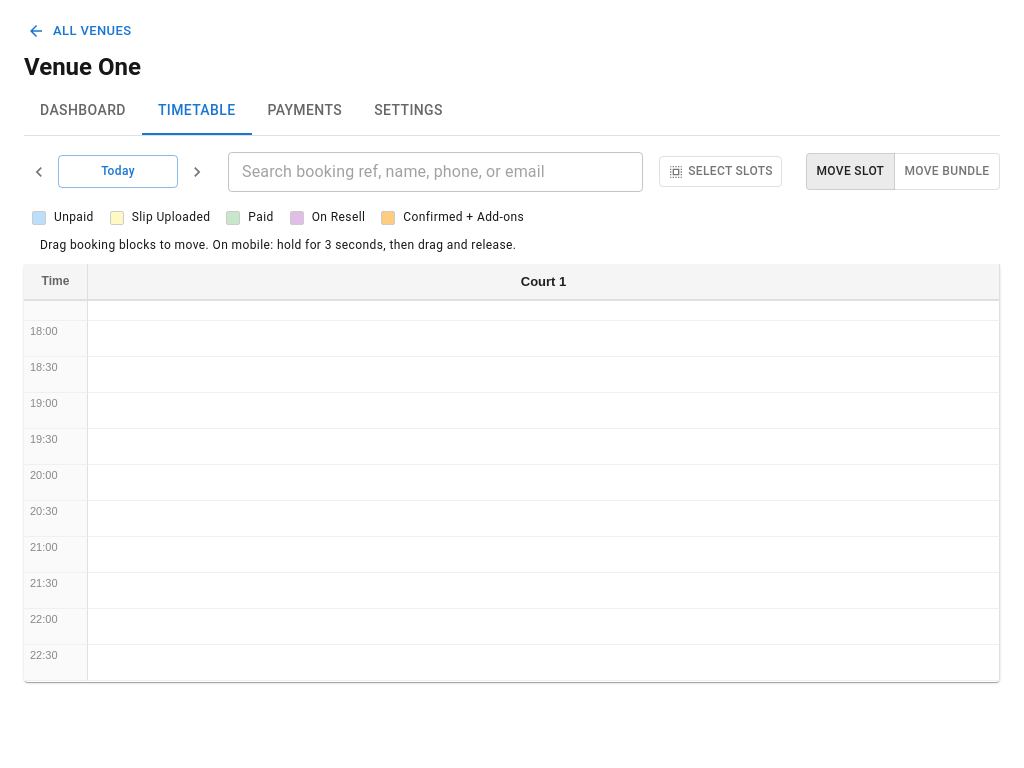
VenueTimetable add-ons display › fetches search results and clears them with the clear button
(page scrolled)
Type "joh" into the field with placeholder "Search booking ref, name, phone, or email".
click(436, 172); type("joh")  # box [228,152,643,192]
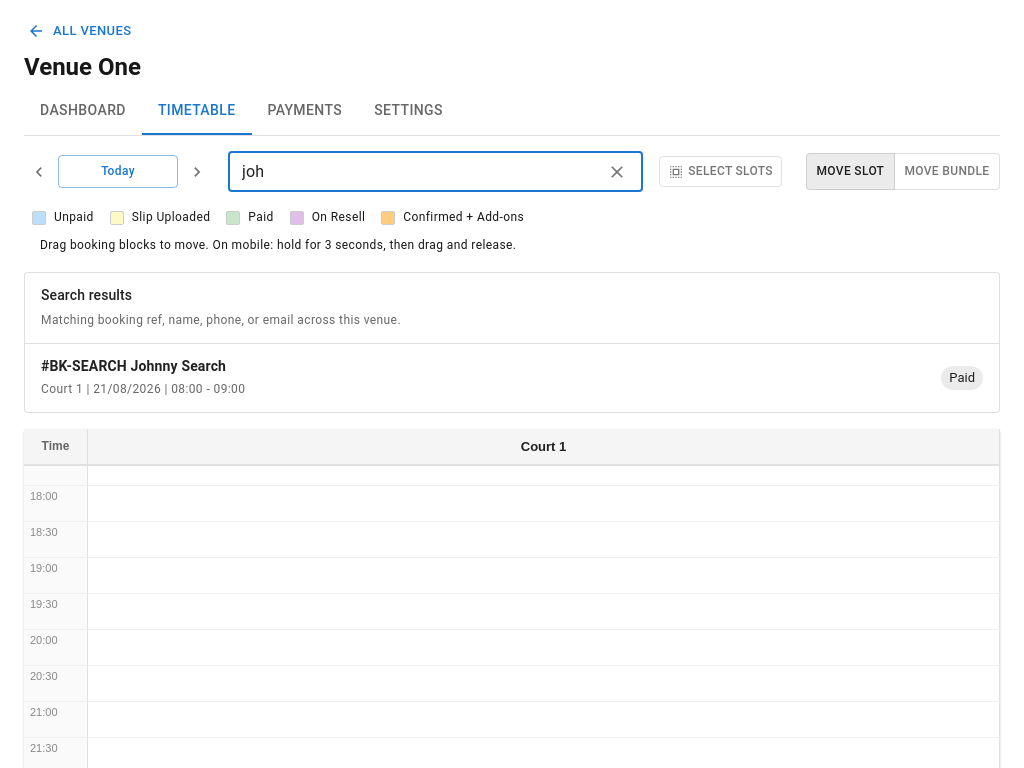
Now the text "#BK-SEARCH Johnny Search" is shown, box [41,356,245,376]
Click the button named "Clear booking search".
click(617, 172)  # box [602,157,632,187]
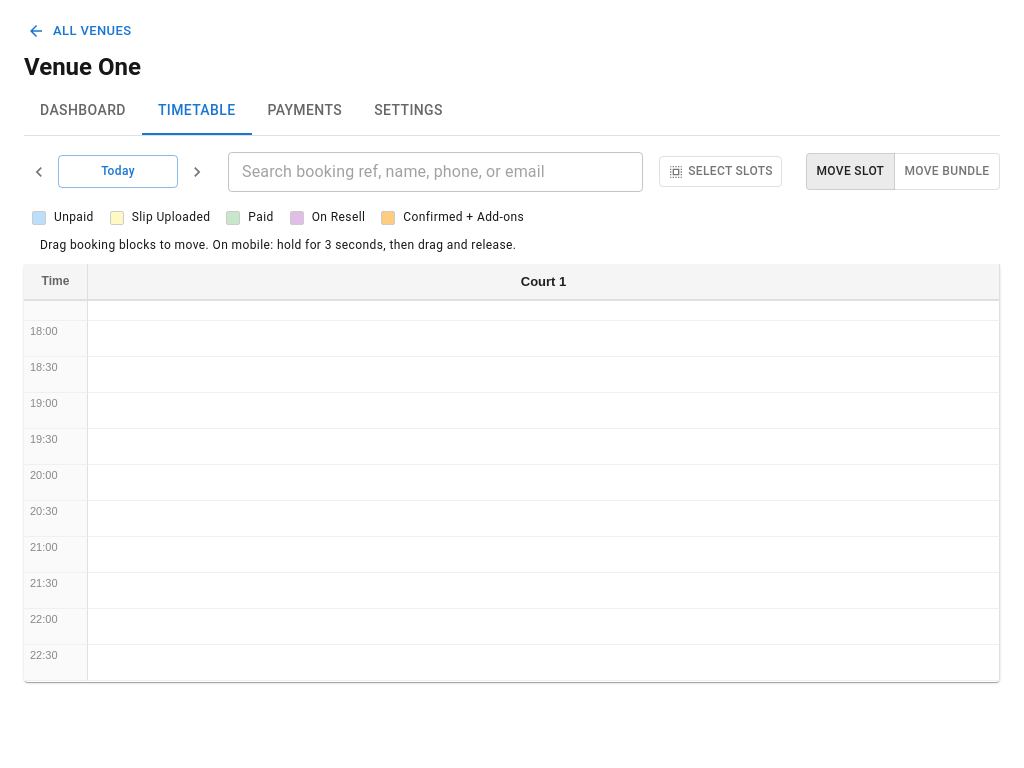
Now the field with placeholder "Search booking ref, name, phone, or email" is empty, box [228,152,643,192]
Now the heading "Search results" is gone
